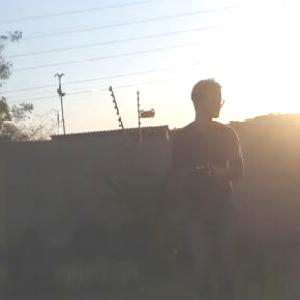follow: (164, 73, 246, 299)
